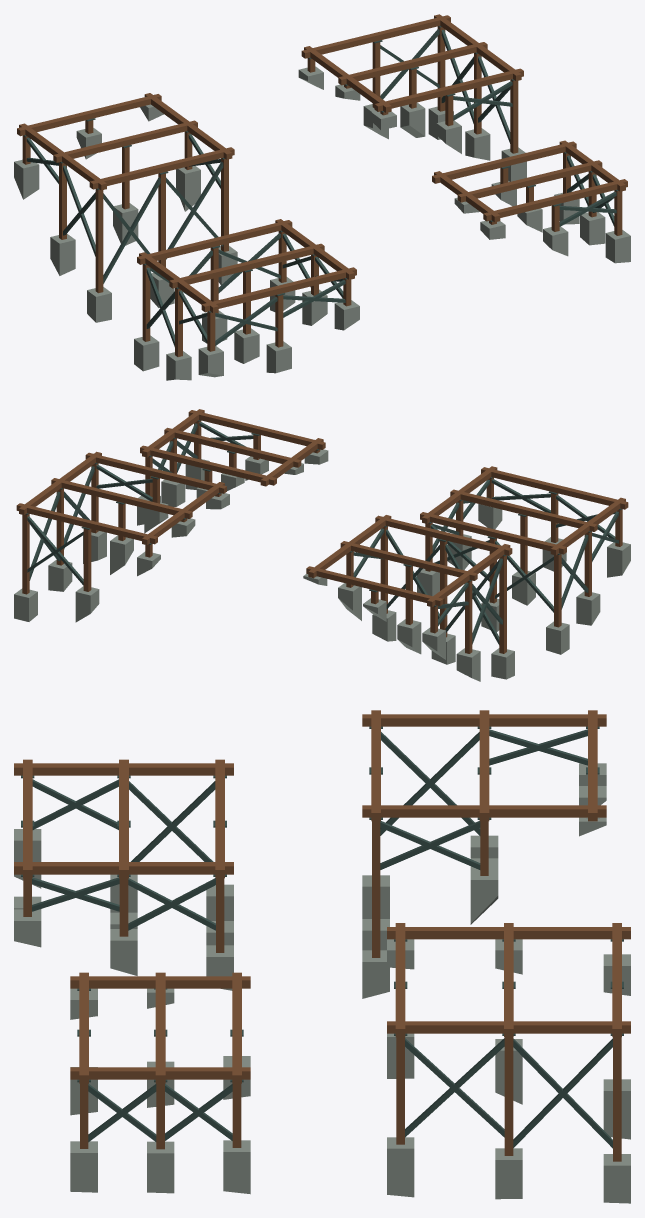
File: foundation-b.glb
The picture shows the model from 3 angles, top to bottom: view 1: azimuth 30°, elevation 25°; view 2: azimuth 150°, elevation 25°; view 3: azimuth 270°, elevation 25°; orthographic projection. The views are drawn at different scales.
Visible parts, largest first — view 1: BStructure; view 2: BStructure; view 3: BStructure.
Boxes of the visible parts, x1,y1,x2,y2 form: BStructure: (14, 14, 630, 380); BStructure: (14, 409, 630, 681); BStructure: (14, 710, 630, 1203).
Size of the model in its own units: 24.98 by 7.82 by 20.2.
